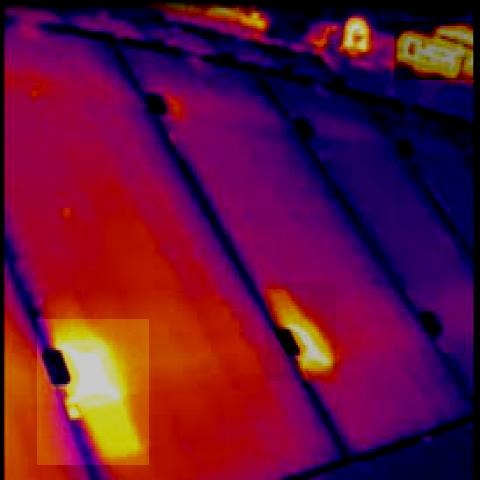fault: (37, 319, 149, 465), (266, 283, 338, 381), (394, 21, 478, 80), (338, 16, 371, 57)
